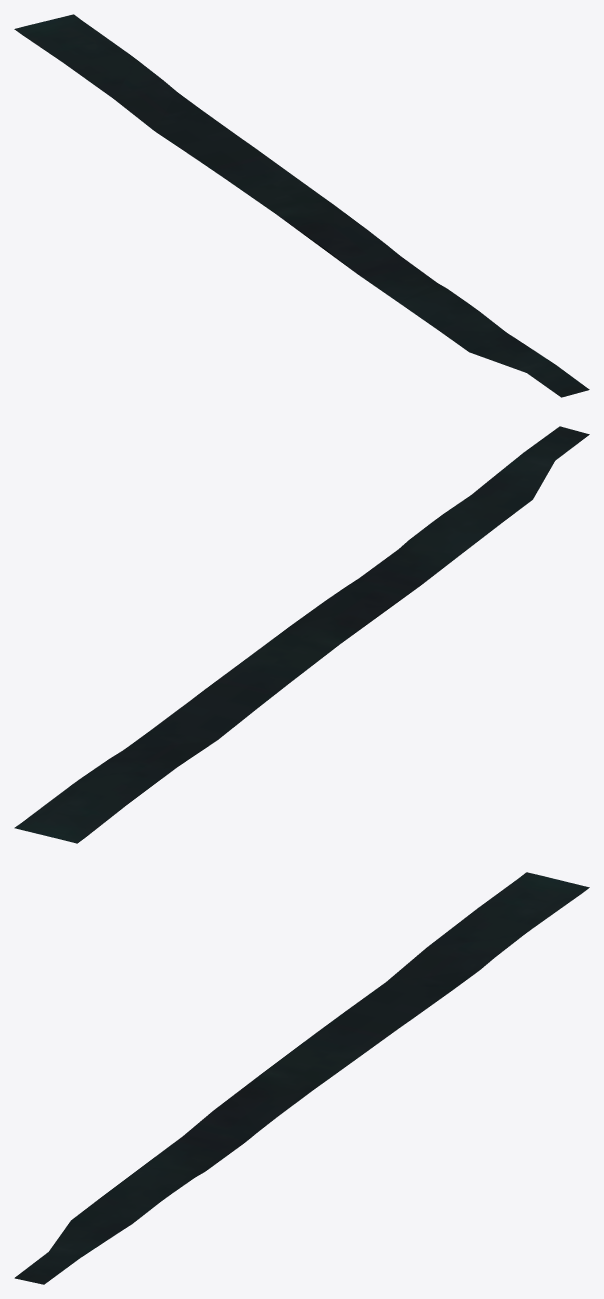
The picture shows the model from 3 angles, top to bottom: view 1: azimuth 30°, elevation 25°; view 2: azimuth 150°, elevation 25°; view 3: azimuth 330°, elevation 25°; orthographic projection. The views are drawn at different scales.
Size of the model in its own units: 3.5 by 0.3013 by 52.22.
1 material, 1 textured.
